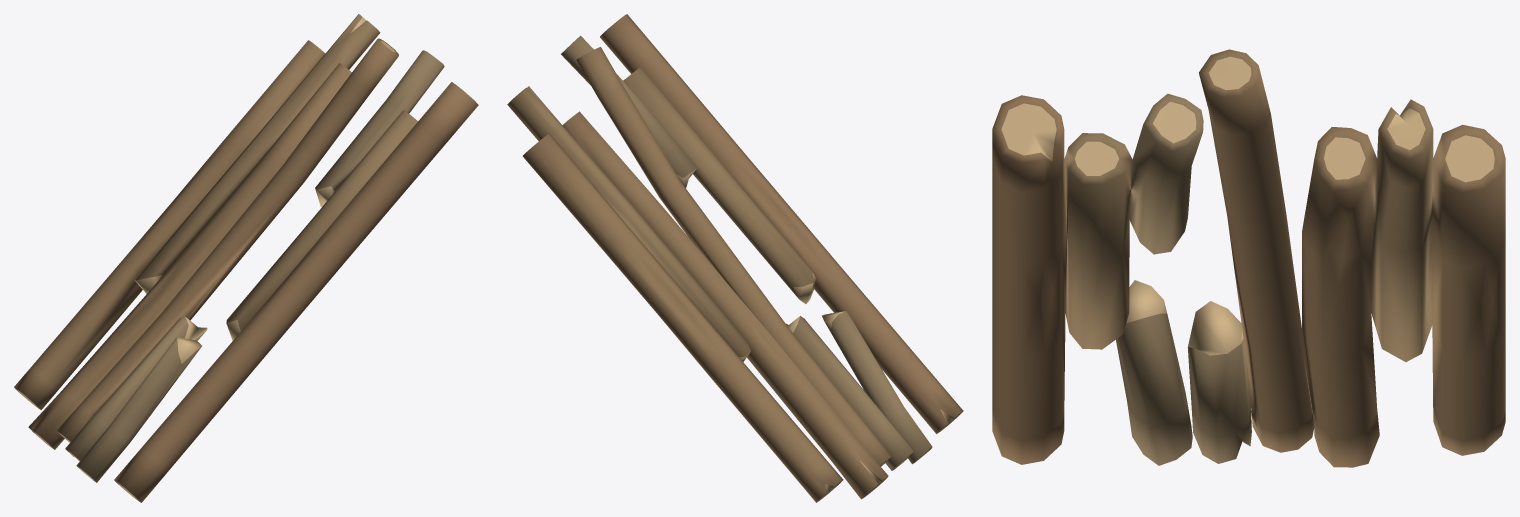
File: rpgpp_av_roof_01_6x3x3_half_b.gltf
3 renders of one model, left to right at view 1: azimuth 30°, elevation 25°; view 2: azimuth 150°, elevation 25°; view 3: azimuth 270°, elevation 25°, orthographic. The views are drawn at different scales.
Visible parts, largest first — view 1: rpgpp_av_roof_01_6x3x3_half_b; view 2: rpgpp_av_roof_01_6x3x3_half_b; view 3: rpgpp_av_roof_01_6x3x3_half_b.
Part boxes in pixels (box(x1,y1,x2,y2)): rpgpp_av_roof_01_6x3x3_half_b: box(14, 14, 478, 502); rpgpp_av_roof_01_6x3x3_half_b: box(507, 14, 963, 502); rpgpp_av_roof_01_6x3x3_half_b: box(992, 49, 1505, 467).
Size of the model in its own units: 0.0495 by 0.0457 by 0.03.
1 material, 1 textured.
